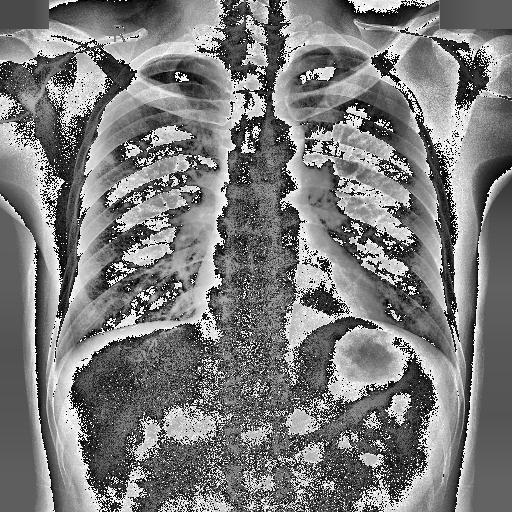8- Nodule-Mass: (406, 293, 426, 307), (105, 155, 116, 166), (138, 140, 149, 150), (327, 55, 334, 67)
9- Other lesion: (71, 316, 189, 386), (91, 321, 163, 386)
